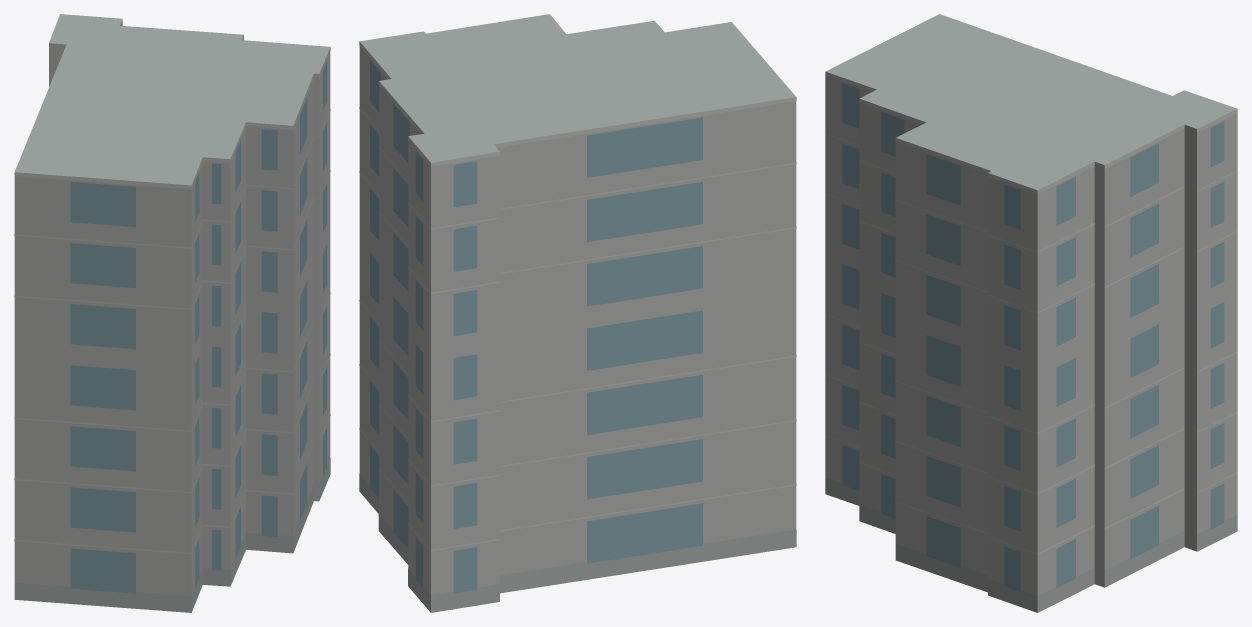
File: survey-upis-32735494.glb
3 renders of one model, left to right at view 1: azimuth 30°, elevation 25°; view 2: azimuth 150°, elevation 25°; view 3: azimuth 270°, elevation 25°, orthographic. The views are drawn at different scales.
Visible parts, largest first — view 1: survey-upis-32735494.tmp; view 2: survey-upis-32735494.tmp; view 3: survey-upis-32735494.tmp.
Boxes of the visible parts, left/top/right/bottom form: survey-upis-32735494.tmp: left=14, top=14, right=330, bottom=612; survey-upis-32735494.tmp: left=359, top=14, right=796, bottom=612; survey-upis-32735494.tmp: left=825, top=14, right=1237, bottom=612.
Size of the model in its own units: 22.66 by 25.3 by 22.39.
